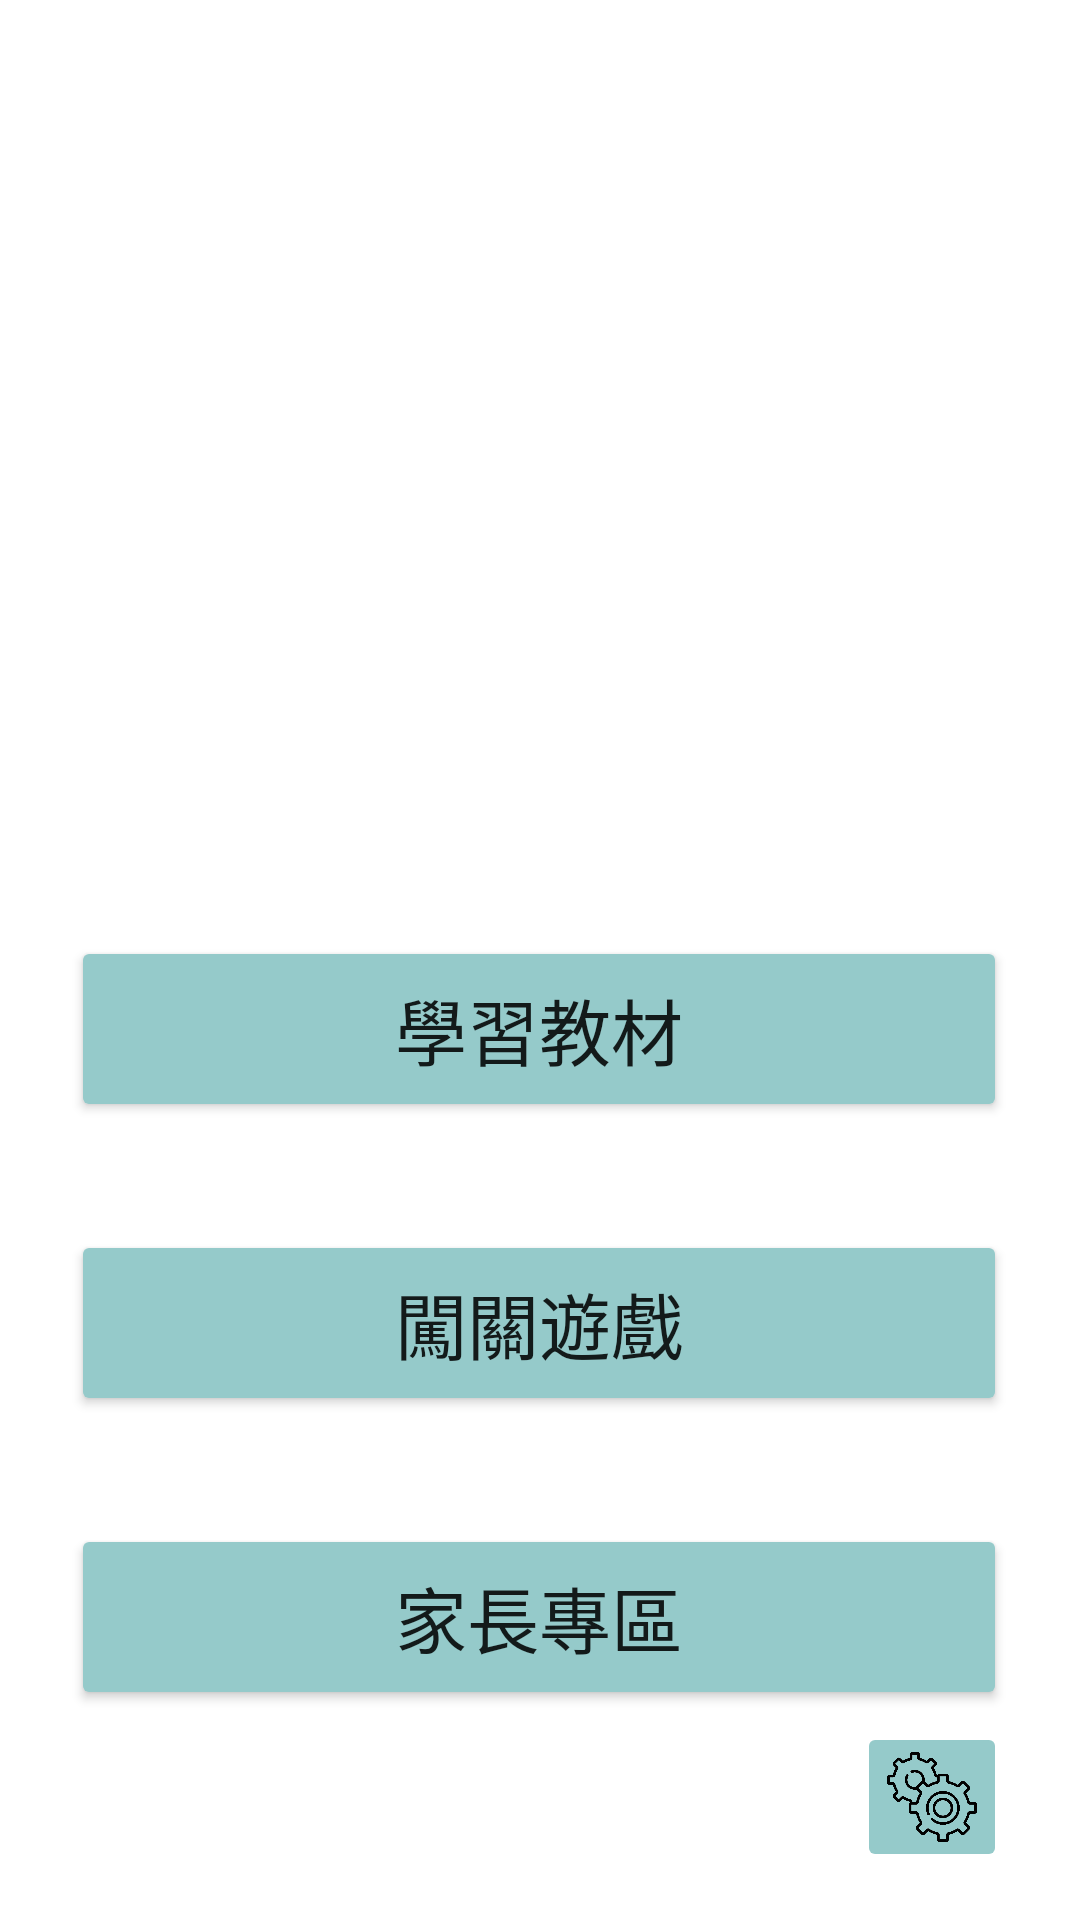

Named icons in this screenshot (1080 × 1920) and their centers, [x,y]:
system: [932,1797]
